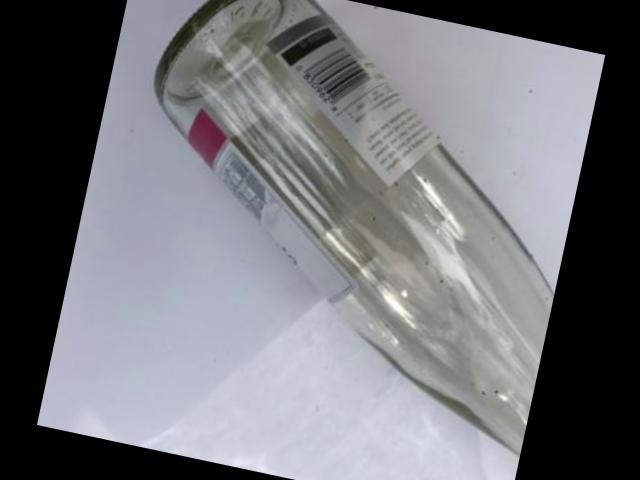plastic: (151, 0, 552, 458)
